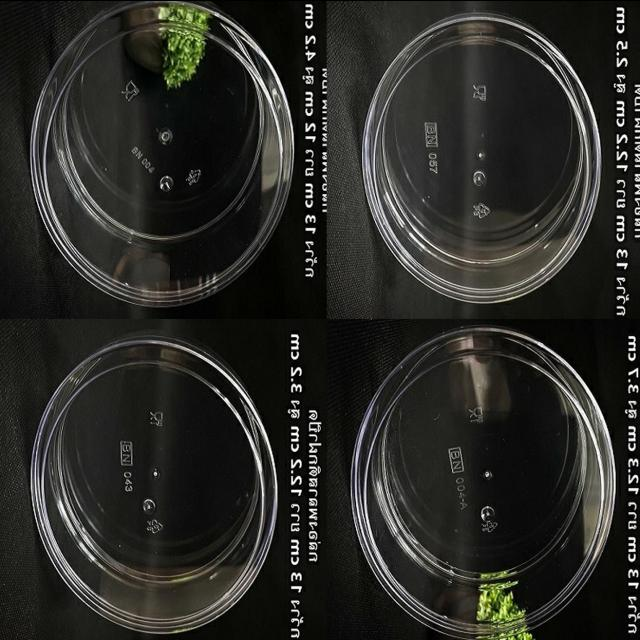plastik: (351, 326, 616, 638), (31, 0, 292, 306), (31, 335, 277, 631), (363, 11, 601, 303)
